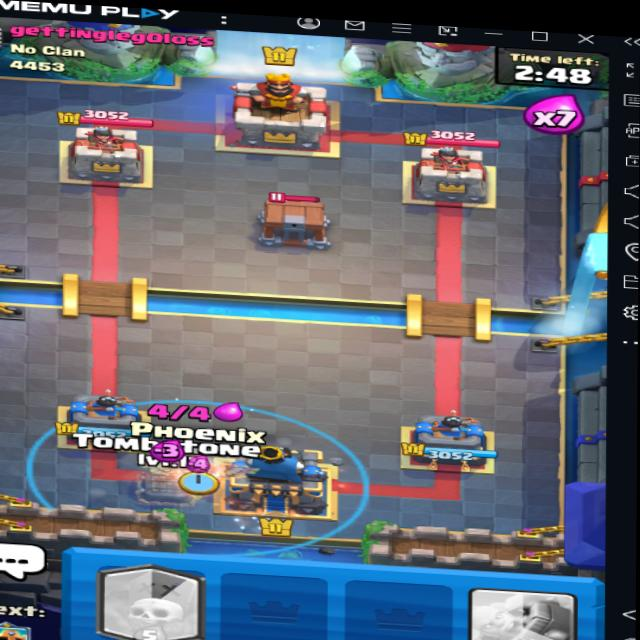Goblincage: (251, 190, 333, 250)
